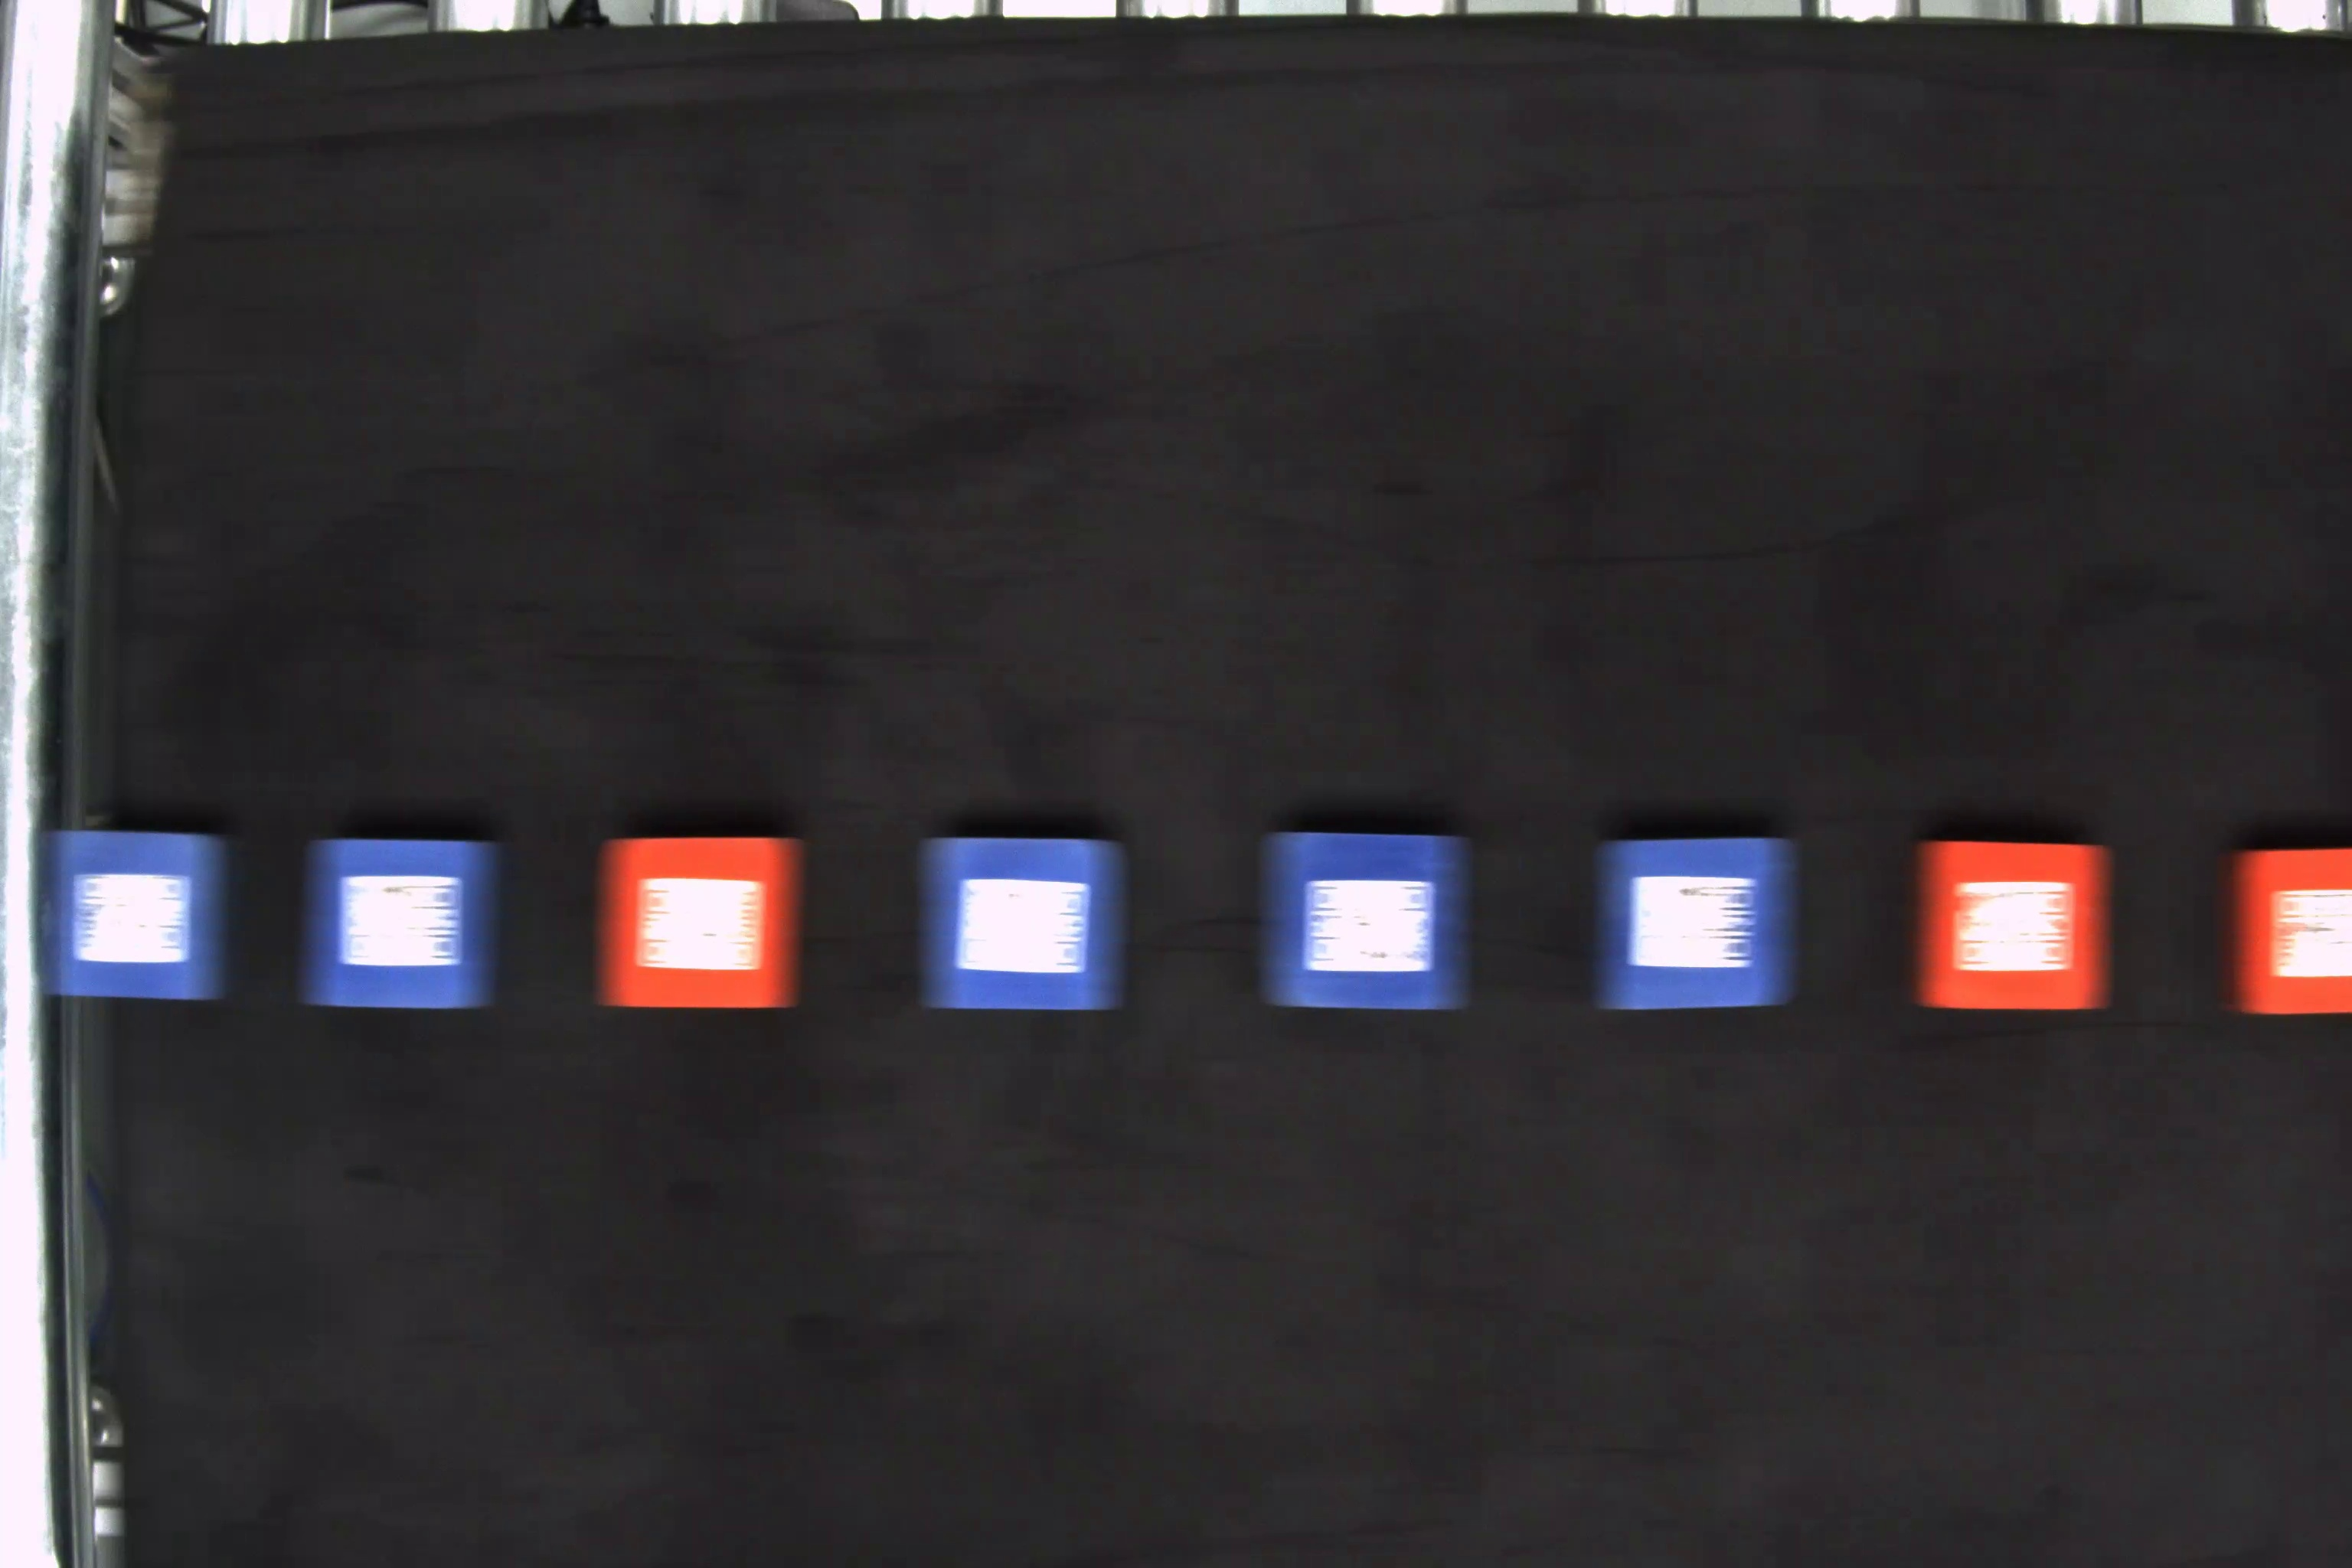wood: (919, 831, 1130, 1018), (1260, 835, 1472, 1011), (593, 840, 807, 1013), (301, 835, 502, 1017), (1599, 836, 1801, 1017), (1904, 843, 2110, 1013), (45, 826, 227, 1001), (2222, 840, 2348, 1022)
